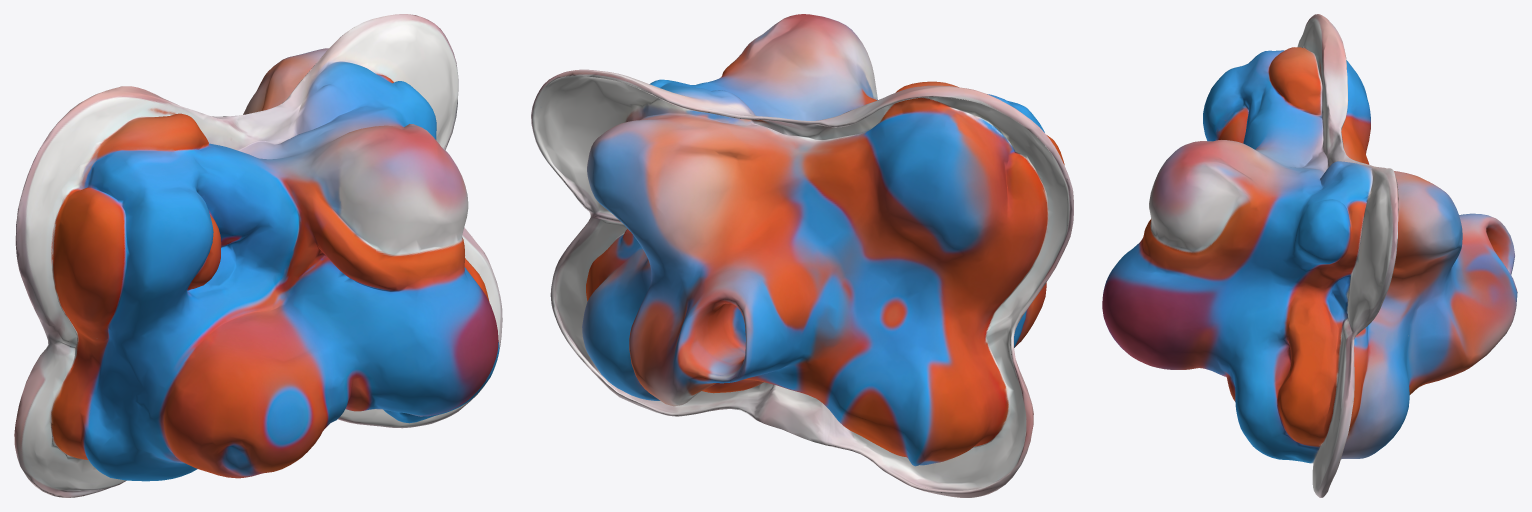
Rendered from Rotuck.glb.
3 renders of one model, left to right at view 1: azimuth 30°, elevation 25°; view 2: azimuth 150°, elevation 25°; view 3: azimuth 270°, elevation 25°, orthographic. The views are drawn at different scales.
Visible parts, largest first — view 1: tripo_node_3d86b43b-e466-4e2f-ab49-ed7234f8c64f; view 2: tripo_node_3d86b43b-e466-4e2f-ab49-ed7234f8c64f; view 3: tripo_node_3d86b43b-e466-4e2f-ab49-ed7234f8c64f.
Part boxes in pixels (x1,y1,x2,y2): tripo_node_3d86b43b-e466-4e2f-ab49-ed7234f8c64f: (14, 14, 502, 497); tripo_node_3d86b43b-e466-4e2f-ab49-ed7234f8c64f: (531, 14, 1073, 497); tripo_node_3d86b43b-e466-4e2f-ab49-ed7234f8c64f: (1102, 14, 1517, 497).
Size of the model in its own units: 0.9796 by 0.7518 by 0.8358.
Materials: 1 (1 with a texture image).
